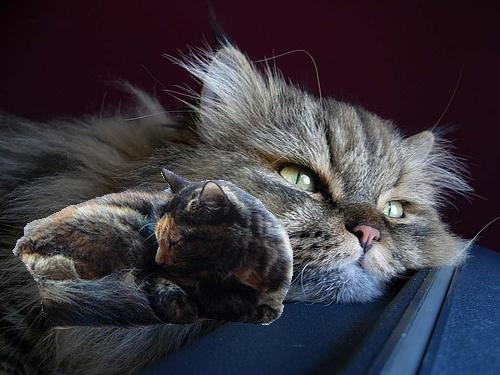tampered: (13, 169, 293, 329)
